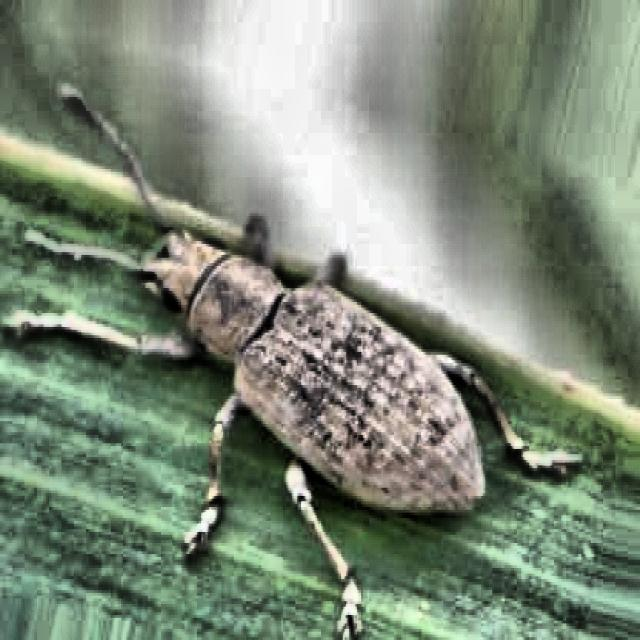Stink bug: (61, 151, 520, 603)
